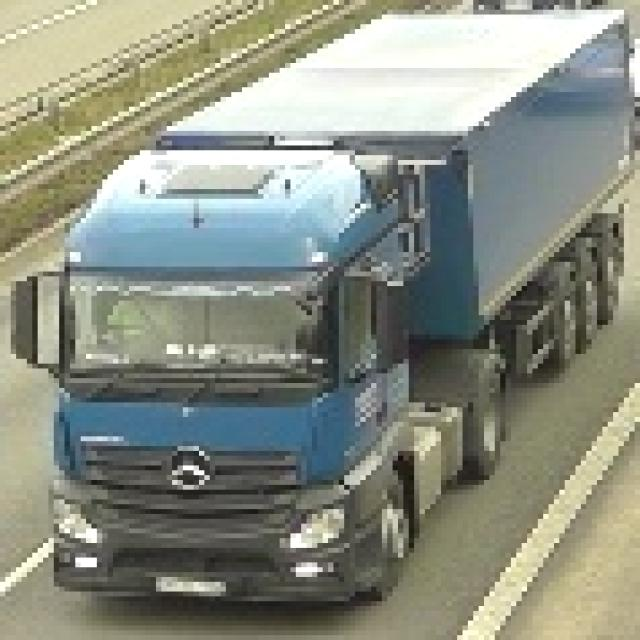TRUCK: (40, 11, 637, 608)
